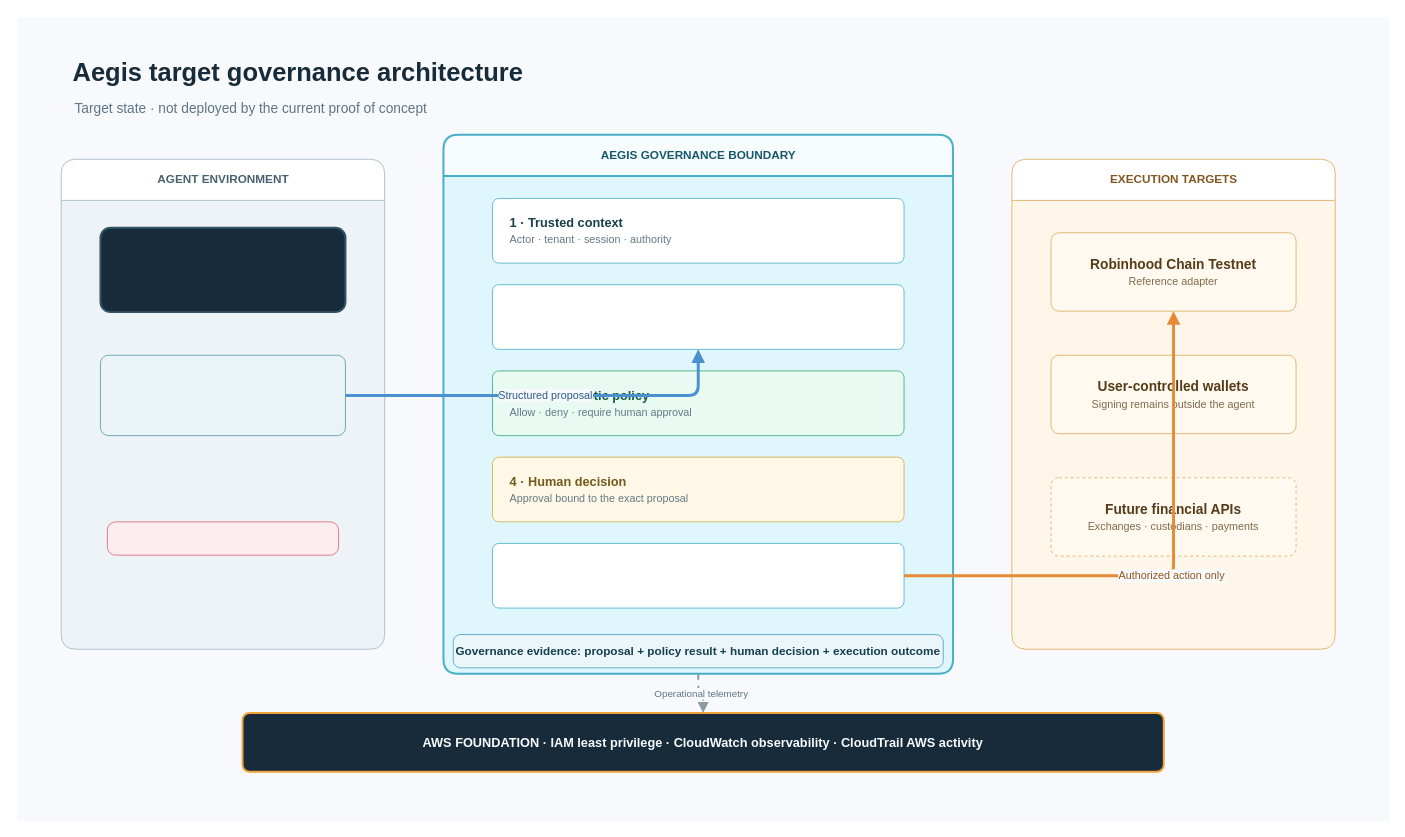
Some shapes in this 1405 by 837 pixel diagram are drawn without their labels. The centre of each missing label's shape, as x and y in pixels:
2 · Canonical proposal Normalize the requested action and terms: the point at 697,316
5 · Controlled execution Scoped adapter · expiry · replay protection: the point at 697,575
Amazon Bedrock AgentCore Target runtime and gateway: the point at 222,269
Financial AI agent Researches · reasons · proposes: the point at 222,395
NO DIRECT WALLET OR FINANCIAL ACCESS: the point at 222,538
